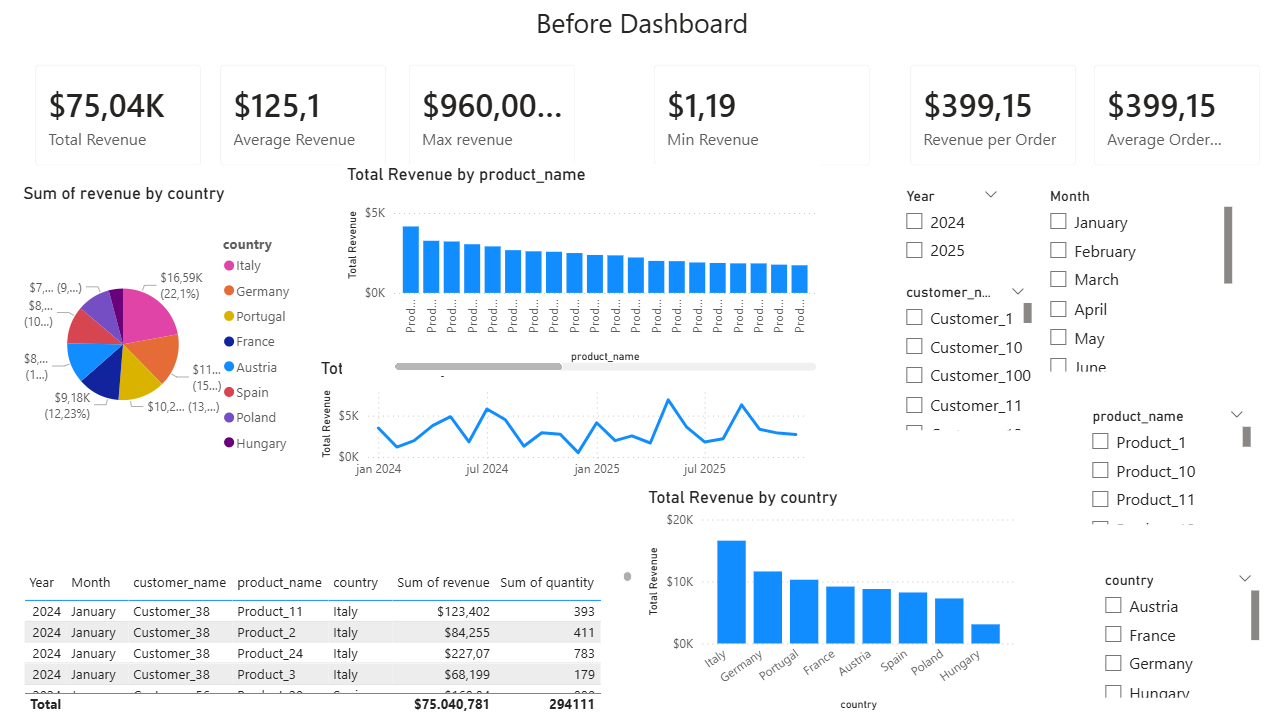

This screenshot's page, from the dashboard's own definition file:
{"tool":"powerbi","page":{"name":"Before Dashboard","canvas":[1280,720],"ordinal":0},"visuals":[{"type":"textbox","box":[10,0,1270,48.4],"z":0},{"type":"cardVisual","fields":{"Data":["Order_items.Total Revenue"]},"box":[21.3,48.4,200.5,135.1],"z":1},{"type":"cardVisual","fields":{"Data":["Order_items.Average Revenue"]},"box":[206.2,48.4,200.5,135.1],"z":2},{"type":"cardVisual","fields":{"Data":["Order_items.Max revenue"]},"box":[395.4,48.4,200.5,135.1],"z":3},{"type":"cardVisual","fields":{"Data":["Order_items.Min Revenue"]},"box":[640,48.4,250.3,135.1],"z":4},{"type":"cardVisual","fields":{"Data":["Order_items.Revenue per Order"]},"box":[896,48.4,200.5,135.1],"z":5},{"type":"cardVisual","fields":{"Data":["Order_items.Average Order Value"]},"box":[1079.5,48.4,200.5,135.1],"z":6},{"type":"lineChart","fields":{"Y":["Order_items.Total Revenue"],"Category":["Orders.order_date.Variation.Date Hierarchy.Year","Orders.order_date.Variation.Date Hierarchy.Month"]},"box":[318.6,358.4,506.3,129.4],"z":7},{"type":"columnChart","fields":{"Category":["Customers.country"],"Y":["Order_items.Total Revenue"]},"box":[645.7,487.8,376.9,229],"z":8},{"type":"pieChart","fields":{"Category":["Customers.country"],"Y":["Sum(Order_items.revenue)"]},"box":[21.3,183.5,285.9,304.4],"z":9},{"type":"columnChart","fields":{"Category":["Products.product_name"],"Y":["Order_items.Total Revenue"]},"box":[345.6,165,479.3,211.9],"z":10},{"type":"tableEx","fields":{"Values":["Orders.order_date.Variation.Date Hierarchy.Year","Orders.order_date.Variation.Date Hierarchy.Month","Customers.customer_name","Products.product_name","Customers.country","Sum(Order_items.revenue)","Sum(Order_items.quantity)"]},"box":[21.3,567.5,618.7,152.2],"z":11},{"type":"slicer","fields":{"Values":["Orders.order_date.Variation.Date Hierarchy.Year"]},"box":[896,183.5,116.6,96.7],"z":12},{"type":"slicer","fields":{"Values":["Orders.order_date.Variation.Date Hierarchy.Month"]},"box":[1039.6,183.5,200.5,193.4],"z":13},{"type":"slicer","fields":{"Values":["Customers.customer_name"]},"box":[896,280.2,143.6,156.4],"z":14},{"type":"slicer","fields":{"Values":["Products.product_name"]},"box":[1082.3,403.9,176.4,126.6],"z":15},{"type":"slicer","fields":{"Values":["Customers.country"]},"box":[1095.1,567.5,172.1,136.5],"z":16}]}

Visuals, with their boxes in screenshot pixels (x1, y1, x2, y2), scaled from the page's 1280x720 canvas onto the 1276x717 screenshot:
textbox: {"left": 10, "top": 0, "right": 1275, "bottom": 48}
cardVisual - Order_items.Total Revenue: {"left": 21, "top": 48, "right": 221, "bottom": 183}
cardVisual - Order_items.Average Revenue: {"left": 206, "top": 48, "right": 405, "bottom": 183}
cardVisual - Order_items.Max revenue: {"left": 394, "top": 48, "right": 594, "bottom": 183}
cardVisual - Order_items.Min Revenue: {"left": 638, "top": 48, "right": 888, "bottom": 183}
cardVisual - Order_items.Revenue per Order: {"left": 893, "top": 48, "right": 1093, "bottom": 183}
cardVisual - Order_items.Average Order Value: {"left": 1076, "top": 48, "right": 1275, "bottom": 183}
lineChart - Order_items.Total Revenue x Orders.order_date.Variation.Date Hierarchy.Year: {"left": 318, "top": 357, "right": 822, "bottom": 486}
columnChart - Customers.country x Order_items.Total Revenue: {"left": 644, "top": 486, "right": 1019, "bottom": 714}
pieChart - Customers.country x Sum(Order_items.revenue): {"left": 21, "top": 183, "right": 306, "bottom": 486}
columnChart - Products.product_name x Order_items.Total Revenue: {"left": 345, "top": 164, "right": 822, "bottom": 375}
tableEx - Orders.order_date.Variation.Date Hierarchy.Year x Orders.order_date.Variation.Date Hierarchy.Month: {"left": 21, "top": 565, "right": 638, "bottom": 716}
slicer - Orders.order_date.Variation.Date Hierarchy.Year: {"left": 893, "top": 183, "right": 1009, "bottom": 279}
slicer - Orders.order_date.Variation.Date Hierarchy.Month: {"left": 1036, "top": 183, "right": 1236, "bottom": 375}
slicer - Customers.customer_name: {"left": 893, "top": 279, "right": 1036, "bottom": 435}
slicer - Products.product_name: {"left": 1079, "top": 402, "right": 1255, "bottom": 528}
slicer - Customers.country: {"left": 1092, "top": 565, "right": 1263, "bottom": 701}
